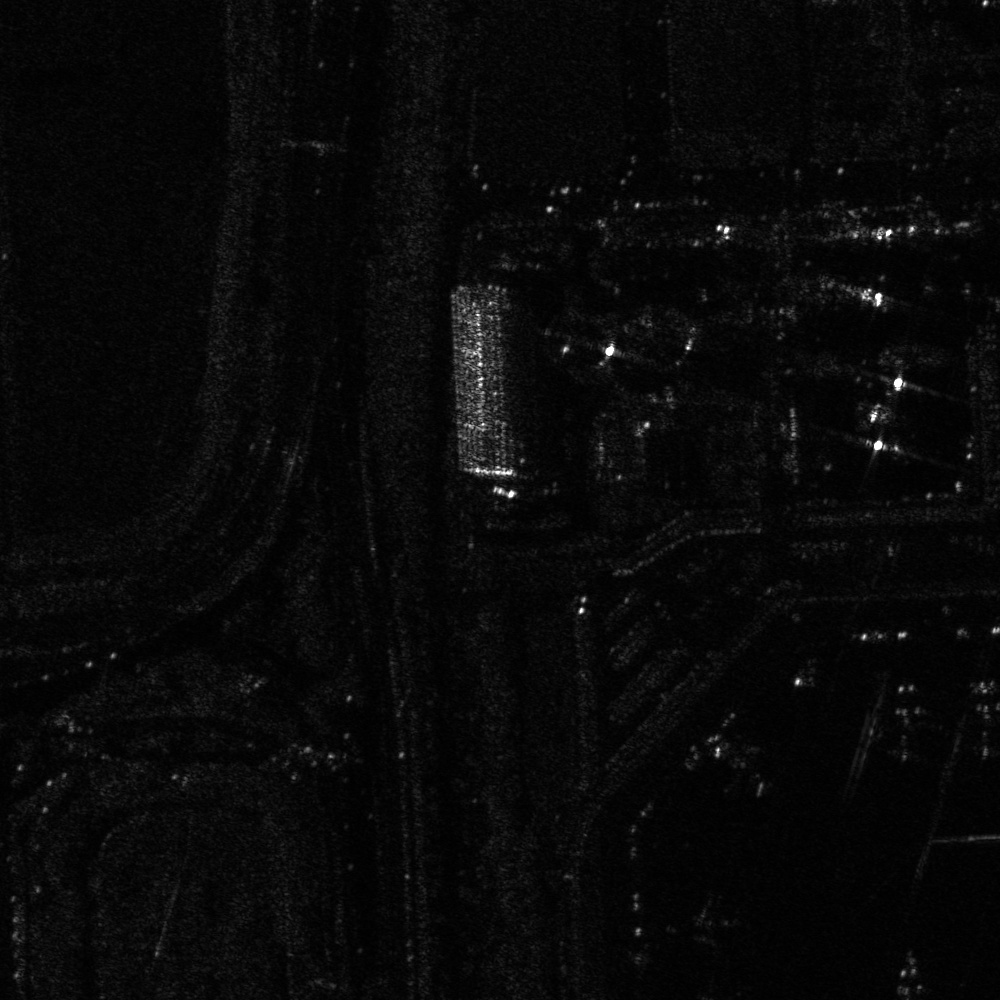A220: (660, 894, 747, 952)
Boeing737: (858, 682, 944, 766), (948, 678, 999, 762)
other: (877, 951, 945, 999)
